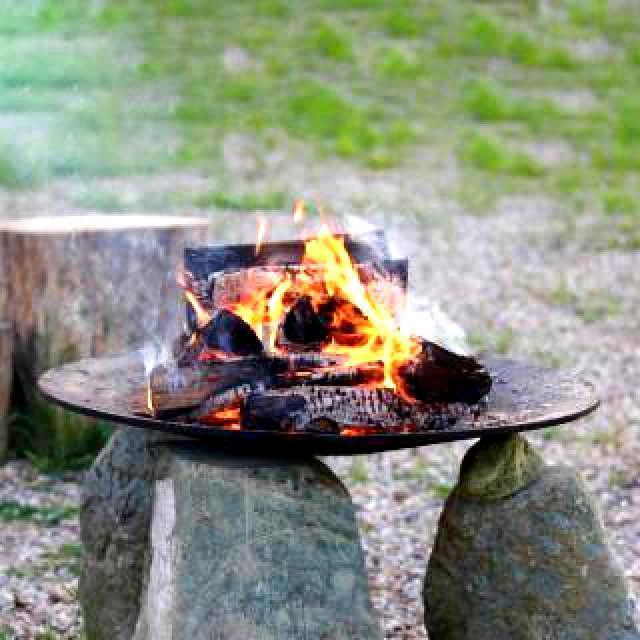Fire: (182, 229, 438, 402)
Smoke: (6, 10, 210, 384)
